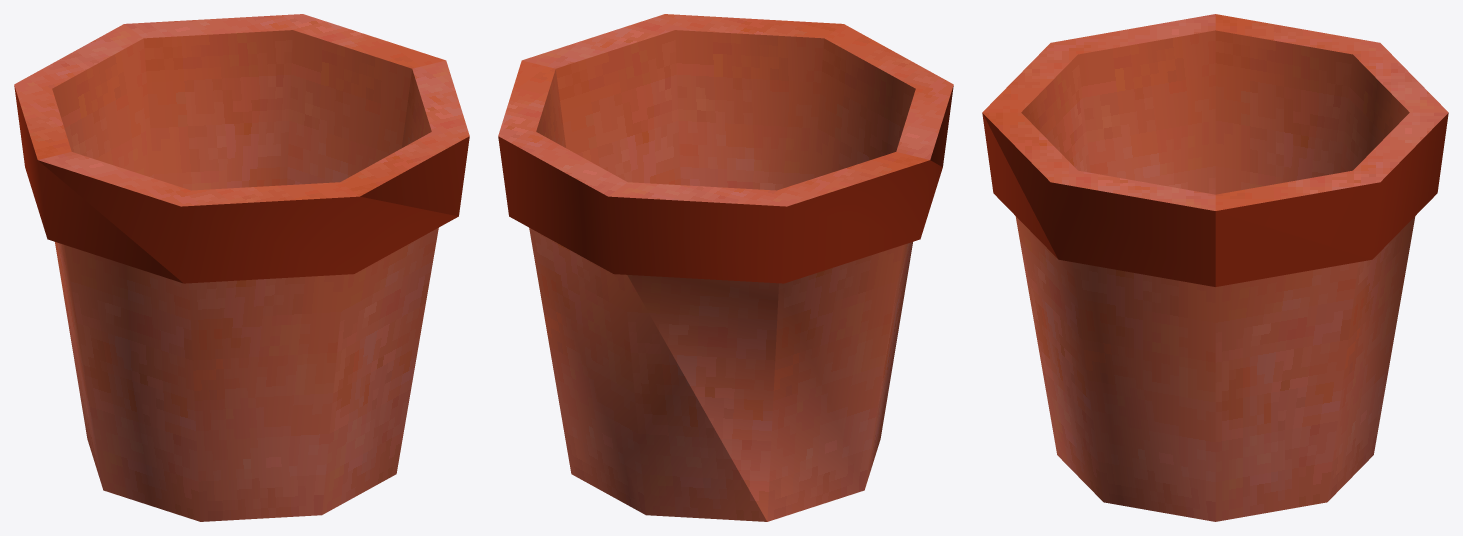
3 renders of one model, left to right at view 1: azimuth 30°, elevation 25°; view 2: azimuth 150°, elevation 25°; view 3: azimuth 270°, elevation 25°, orthographic.
Parts seen in each view (by area): view 1: Object_3, Object_2; view 2: Object_3, Object_2; view 3: Object_3, Object_2.
Boxes of the visible parts, bbox=[...] form: Object_3: bbox=[14, 14, 469, 521]; Object_2: bbox=[14, 86, 469, 283]; Object_3: bbox=[498, 14, 953, 521]; Object_2: bbox=[498, 86, 953, 283]; Object_3: bbox=[982, 14, 1448, 521]; Object_2: bbox=[982, 113, 1448, 286].
Size of the model in its own units: 3.47 by 2.81 by 3.47.
Materials: 2 (2 with a texture image).
